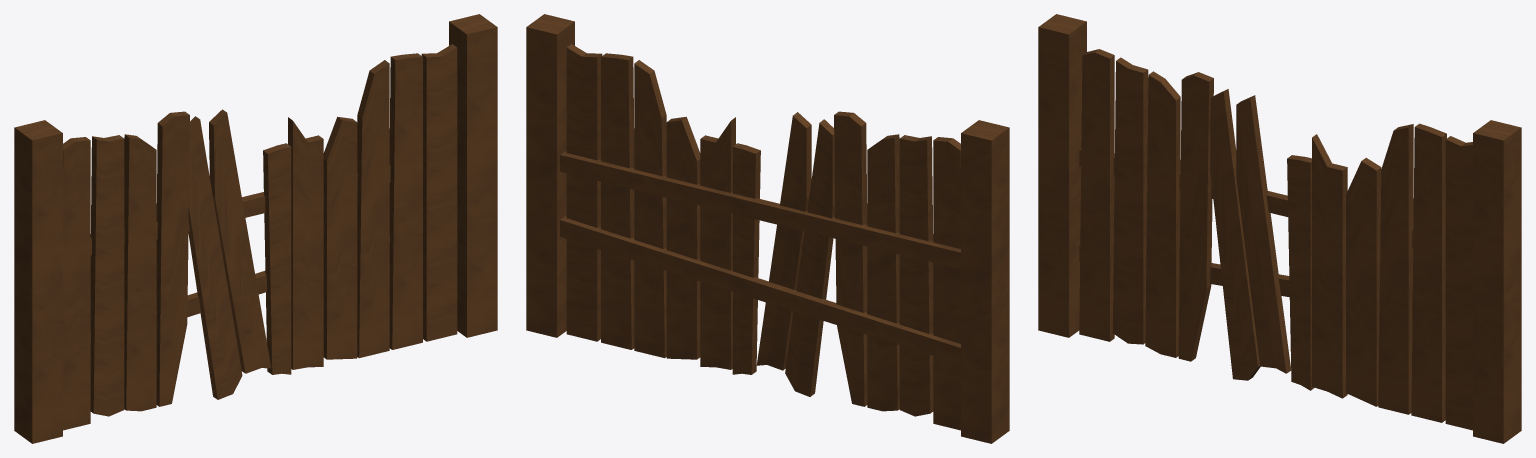
The model's file is Fence_ver2.fbx.
The picture shows the model from 3 angles, left to right: view 1: azimuth 30°, elevation 25°; view 2: azimuth 150°, elevation 25°; view 3: azimuth 330°, elevation 25°; orthographic projection.
Parts seen in each view (by area): view 1: Cube.015; view 2: Cube.015; view 3: Cube.015.
Boxes of the visible parts, x1,y1,x2,y2 form: Cube.015: (14,14,497,443); Cube.015: (526,14,1009,443); Cube.015: (1038,14,1521,443).
Bounding box in the file's own units: 761 × 483 × 50.67.
